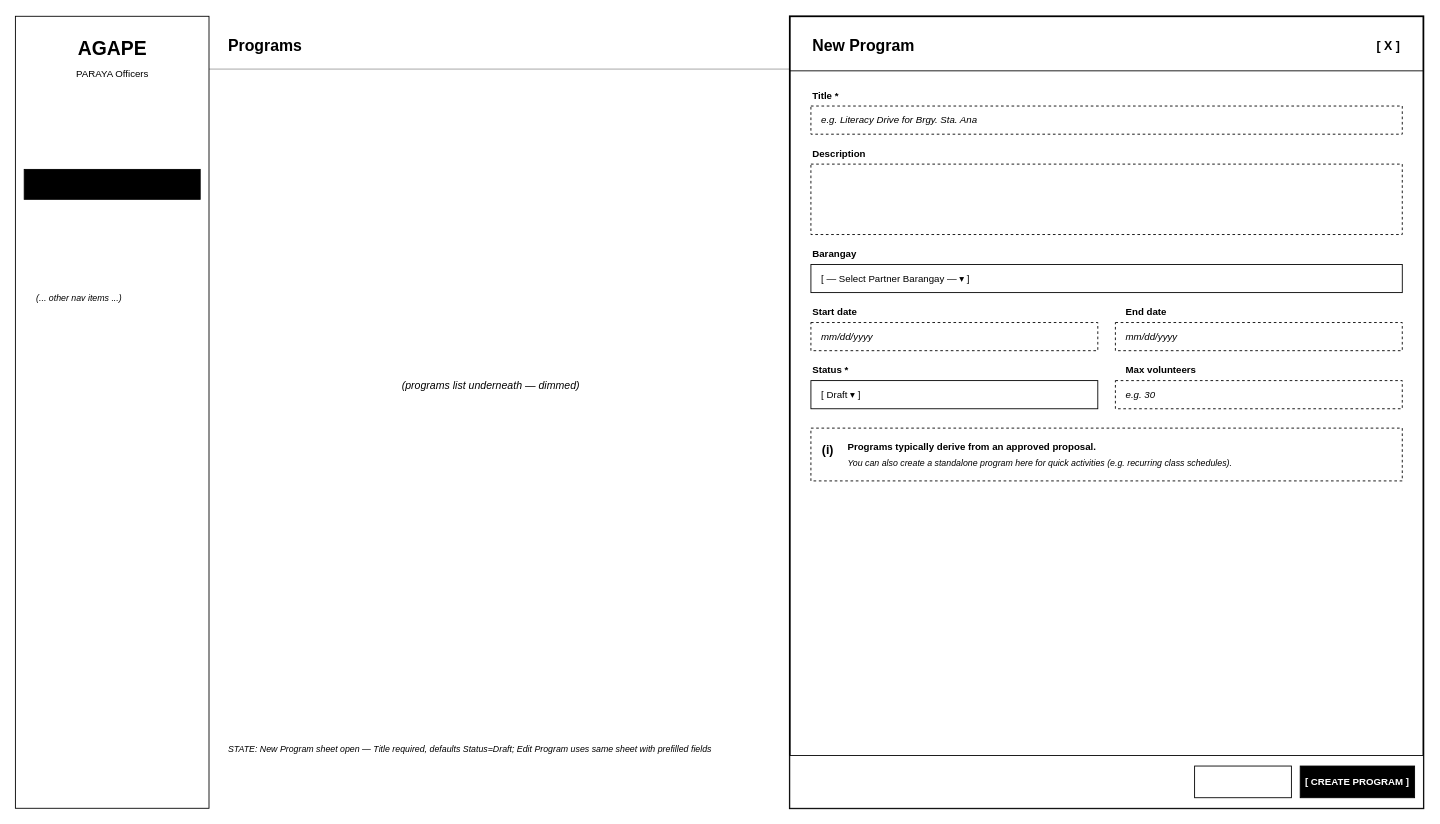
The diagram is 1440 pixels wide and 824 high, and some of its shapes have lost their labels. Each missing label, with the centre of its shape:
"[ CANCEL ]" goes at [1242,781].
"[x] Programs" goes at [111,184].
"Briefly describe the program scope, target outcomes, and partner involvement…" goes at [1106,199].
